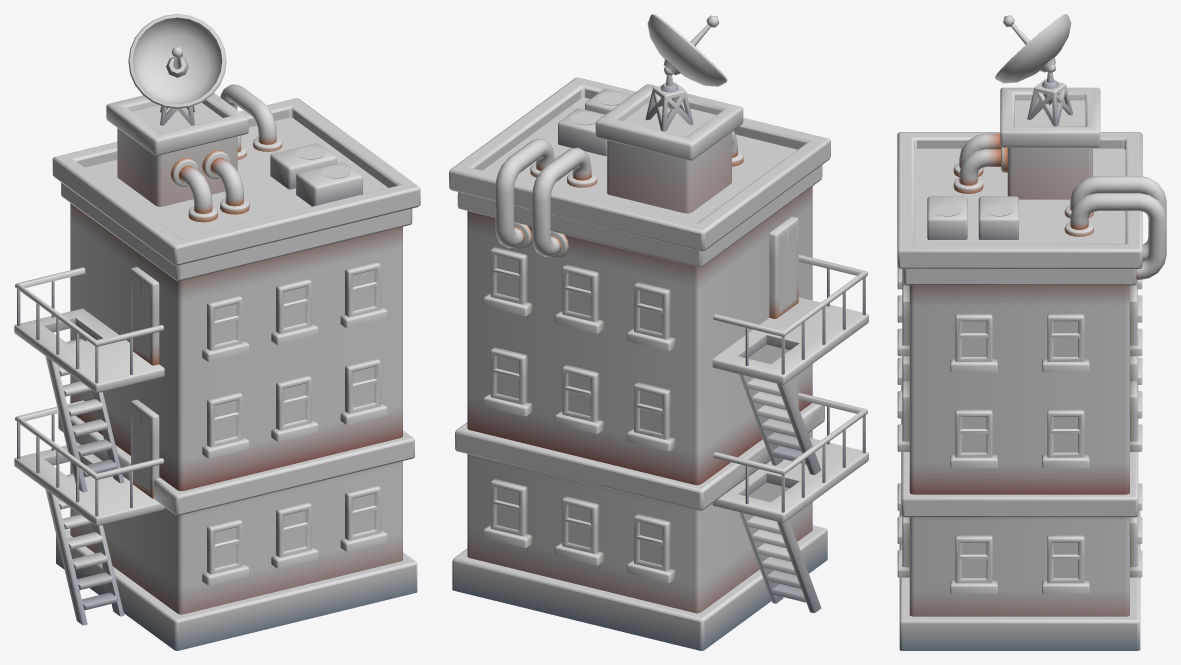
Rendered from NF_Bld_Apartment 14.fbx.
3 renders of one model, left to right at view 1: azimuth 30°, elevation 25°; view 2: azimuth 150°, elevation 25°; view 3: azimuth 270°, elevation 25°, orthographic. The views are drawn at different scales.
Parts seen in each view (by area): view 1: Apart_14; view 2: Apart_14; view 3: Apart_14.
Part boxes in pixels (x1,y1,x2,y2): Apart_14: (14,14,420,650); Apart_14: (449,14,868,650); Apart_14: (897,14,1166,650).
Bounding box in the file's own units: 9.47 × 16.63 × 7.33.
